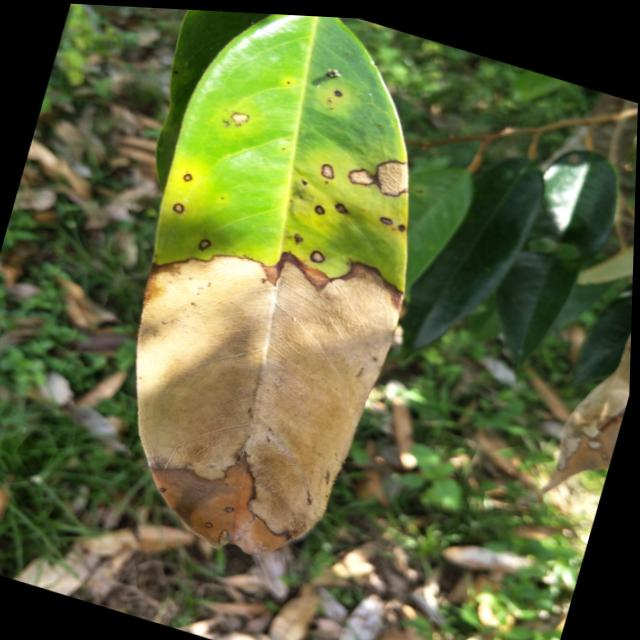Leaf Blight: (24, 185, 574, 640), (363, 113, 448, 212)
Leaf Spot: (349, 153, 377, 189), (312, 155, 340, 179), (191, 226, 215, 247), (227, 104, 249, 125), (175, 162, 200, 180), (308, 245, 329, 262), (168, 198, 188, 212)
